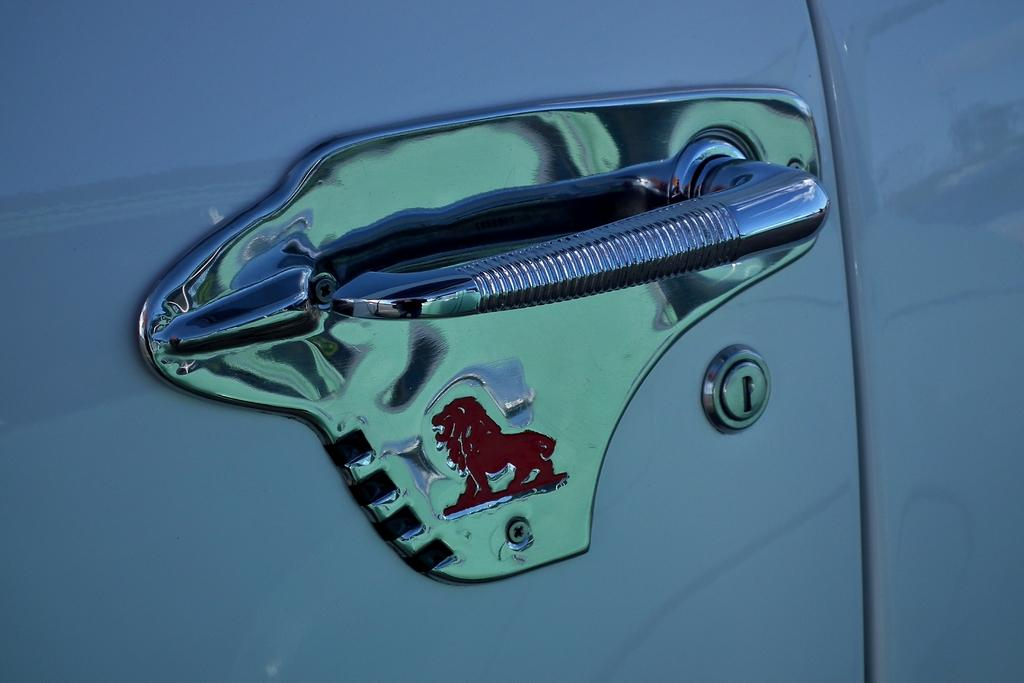handle: (329, 165, 876, 312)
